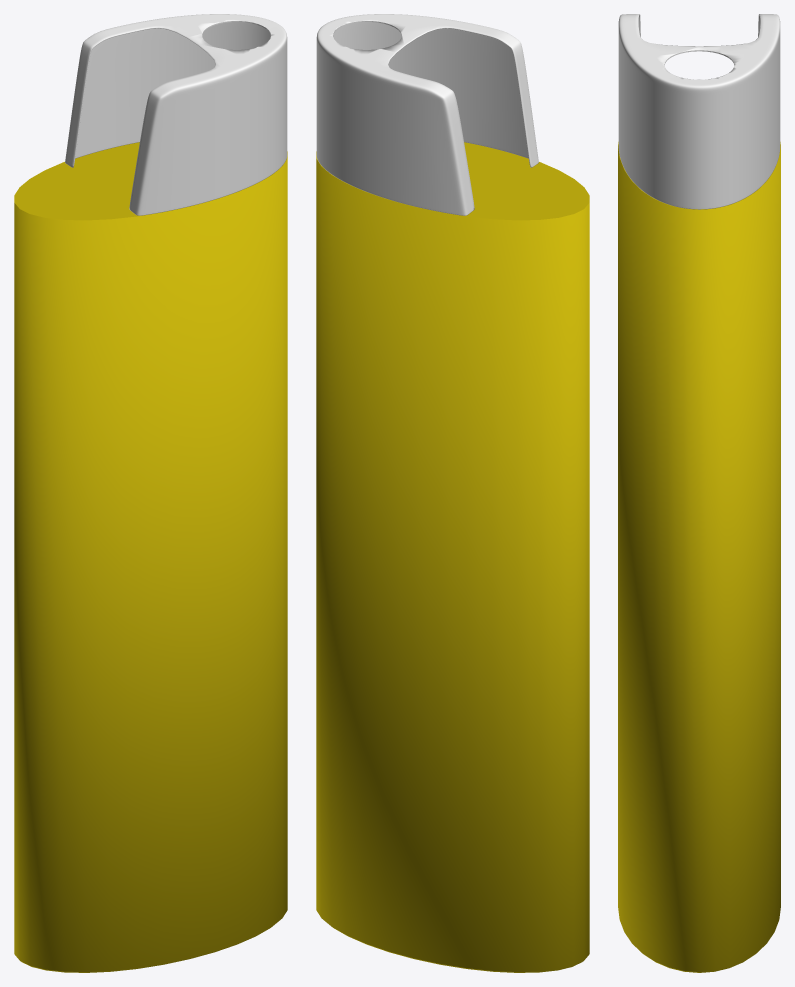
Rendered from Lighter.glb.
3 views of the same model, side by side, from view 1: azimuth 30°, elevation 25°; view 2: azimuth 150°, elevation 25°; view 3: azimuth 270°, elevation 25° (orthographic).
Visible parts, largest first — view 1: Tank, Guard; view 2: Tank, Guard; view 3: Tank, Guard.
Boxes of the visible parts, left/top/right/bottom form: Tank: left=14, top=142, right=287, bottom=972; Guard: left=65, top=14, right=287, bottom=215; Tank: left=316, top=142, right=589, bottom=972; Guard: left=316, top=14, right=538, bottom=215; Tank: left=618, top=142, right=780, bottom=972; Guard: left=618, top=14, right=780, bottom=209.
Size of the model in its own units: 2.5 by 7.97 by 1.32.
